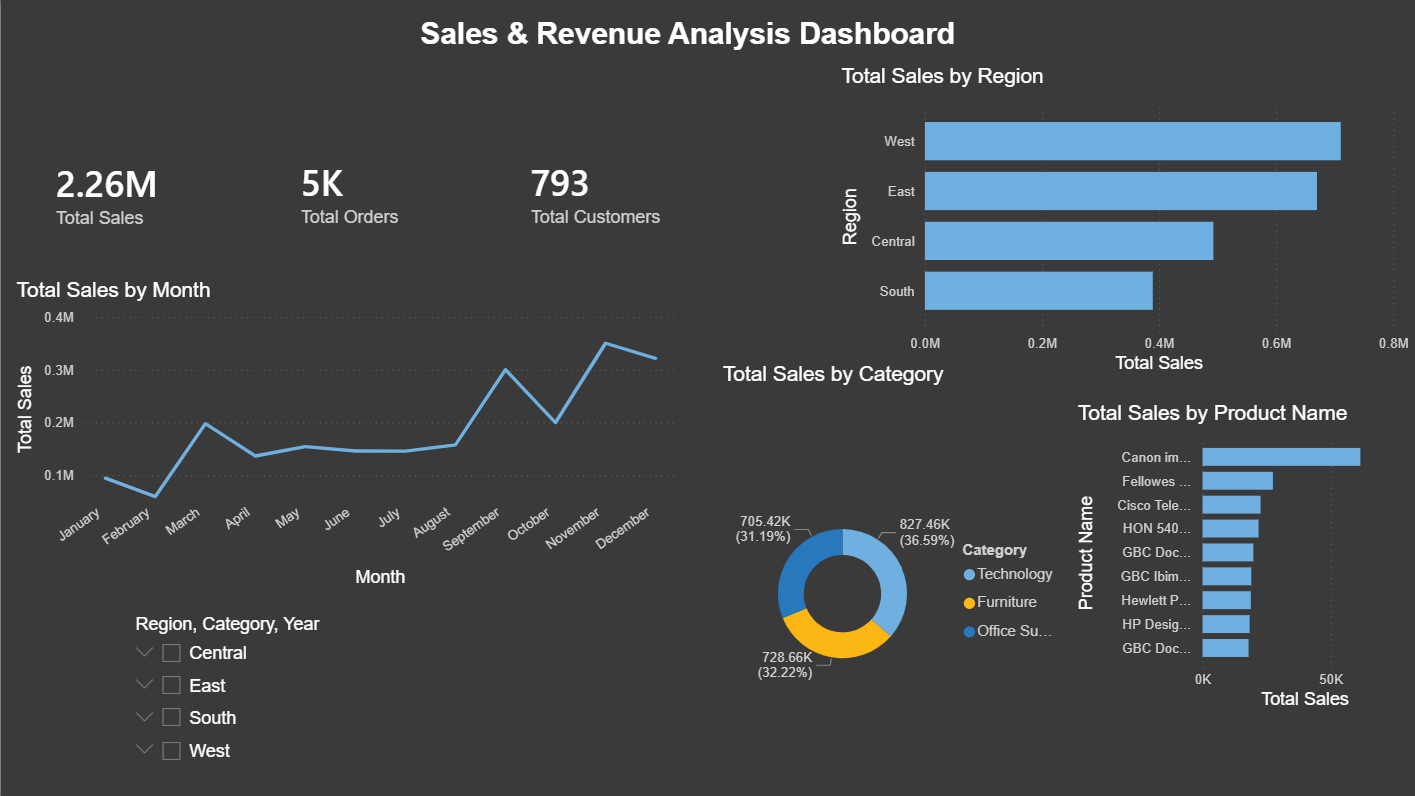

The page's visual inventory and layout, read from the dashboard file:
{"tool":"powerbi","page":{"name":"Page 1","canvas":[1280,720],"ordinal":0},"visuals":[{"type":"cardVisual","fields":{"Data":["cleaned_sales_data.Total Sales"]},"box":[18.6,61.6,227.9,226.7],"z":0},{"type":"cardVisual","fields":{"Data":["cleaned_sales_data.Total Orders"]},"box":[238.4,60.5,227.9,227.9],"z":1},{"type":"cardVisual","fields":{"Data":["cleaned_sales_data.Total Customers"]},"box":[443,60.5,229.1,227.9],"z":2},{"type":"lineChart","fields":{"Category":["cleaned_sales_data.Order Date.Variation.Date Hierarchy.Month"],"Y":["cleaned_sales_data.Total Sales"]},"box":[9.3,251.2,598.8,280.2],"z":3},{"type":"clusteredBarChart","fields":{"Category":["cleaned_sales_data.Region"],"Y":["cleaned_sales_data.Total Sales"]},"box":[746.1,60.5,517.1,280.3],"z":4},{"type":"donutChart","fields":{"Category":["cleaned_sales_data.Category"],"Y":["cleaned_sales_data.Total Sales"]},"box":[639.5,326.3,317.1,393.4],"z":5},{"type":"textbox","box":[369.8,14,524.4,46.5],"z":6},{"type":"clusteredBarChart","fields":{"Category":["cleaned_sales_data.Product Name"],"Y":["cleaned_sales_data.Total Sales"]},"box":[956.6,360.5,323.7,280.3],"z":7},{"type":"slicer","fields":{"Values":["cleaned_sales_data.Region","cleaned_sales_data.Category","cleaned_sales_data.Order Date.Variation.Date Hierarchy.Year"]},"box":[107,546.5,466.3,159.3],"z":8}]}

Visuals, with their boxes in screenshot pixels (x1, y1, x2, y2), scaled from the page's 1280x720 canvas onto the 1415x796 screenshot:
cardVisual - cleaned_sales_data.Total Sales: bbox(21, 68, 272, 319)
cardVisual - cleaned_sales_data.Total Orders: bbox(264, 67, 515, 319)
cardVisual - cleaned_sales_data.Total Customers: bbox(490, 67, 743, 319)
lineChart - cleaned_sales_data.Order Date.Variation.Date Hierarchy.Month x cleaned_sales_data.Total Sales: bbox(10, 278, 672, 587)
clusteredBarChart - cleaned_sales_data.Region x cleaned_sales_data.Total Sales: bbox(825, 67, 1396, 377)
donutChart - cleaned_sales_data.Category x cleaned_sales_data.Total Sales: bbox(707, 361, 1057, 795)
textbox: bbox(409, 15, 989, 67)
clusteredBarChart - cleaned_sales_data.Product Name x cleaned_sales_data.Total Sales: bbox(1057, 399, 1414, 708)
slicer - cleaned_sales_data.Region x cleaned_sales_data.Category: bbox(118, 604, 634, 780)
